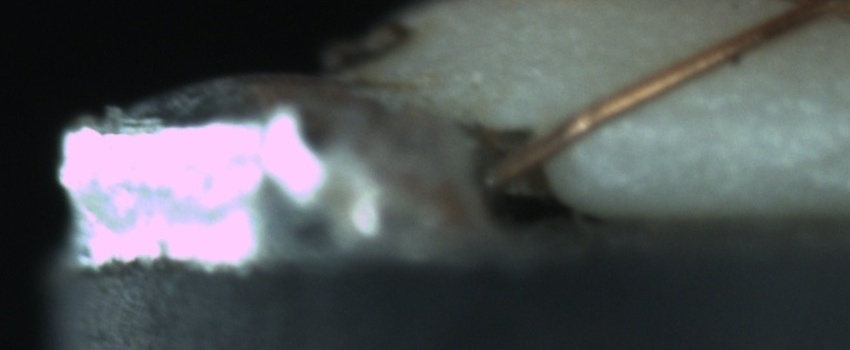CL: (775, 1, 849, 28)
DL: (633, 84, 849, 139)
